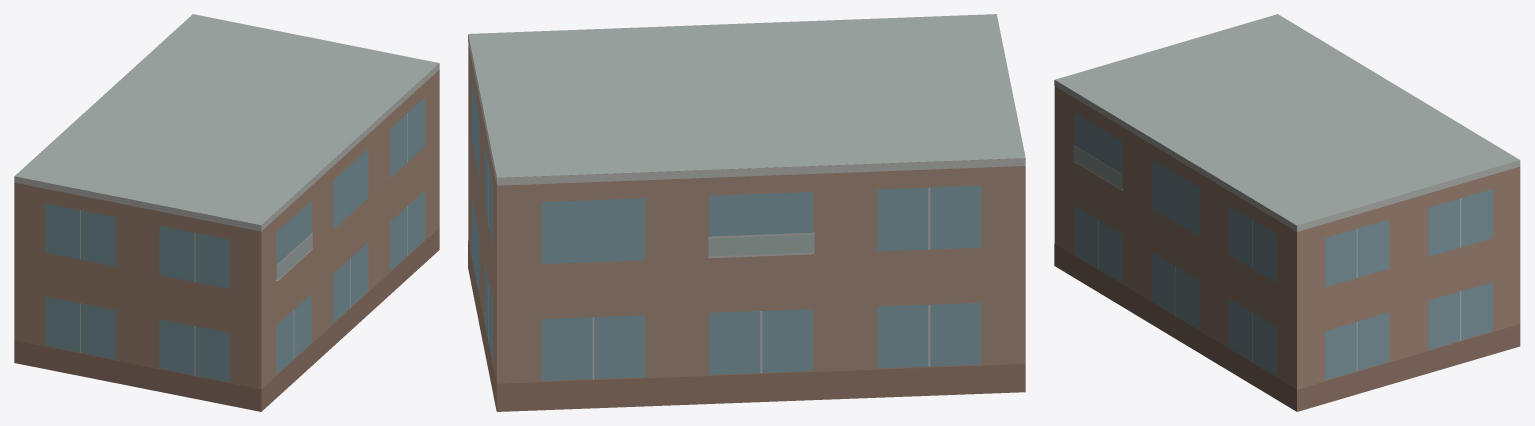
Rendered from survey-upis-32624879.glb.
3 views of the same model, side by side, from view 1: azimuth 30°, elevation 25°; view 2: azimuth 150°, elevation 25°; view 3: azimuth 270°, elevation 25° (orthographic). The views are drawn at different scales.
Visible parts, largest first — view 1: survey-upis-32624879.tmp; view 2: survey-upis-32624879.tmp; view 3: survey-upis-32624879.tmp.
Part boxes in pixels (box(x1,y1,x2,y2)): survey-upis-32624879.tmp: box(14, 14, 439, 411); survey-upis-32624879.tmp: box(468, 14, 1025, 411); survey-upis-32624879.tmp: box(1054, 14, 1520, 411).
Size of the model in its own units: 17.57 by 7.2 by 16.34.
